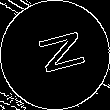N_W: (25, 29, 85, 81)
